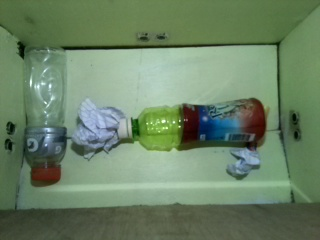bottle: (116, 99, 267, 149), (22, 43, 69, 184)
paper: (70, 98, 125, 160), (227, 146, 261, 179)
